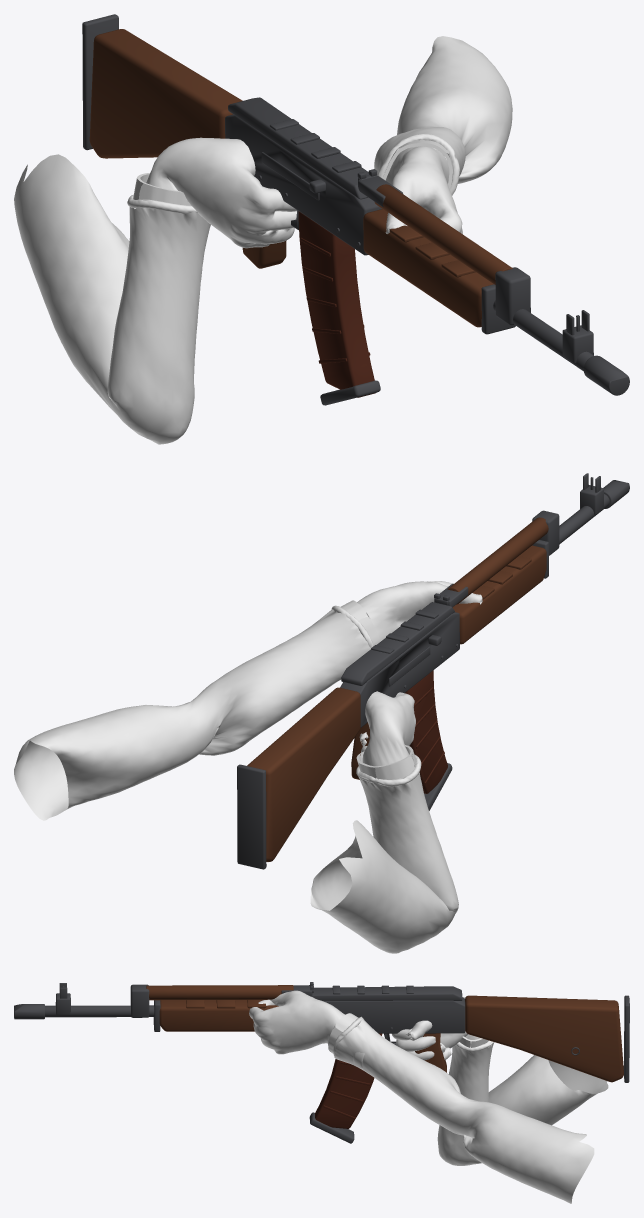
File: FP_kodiak.glb
The picture shows the model from 3 angles, top to bottom: view 1: azimuth 30°, elevation 25°; view 2: azimuth 150°, elevation 25°; view 3: azimuth 270°, elevation 25°; orthographic projection. The views are drawn at different scales.
Visible parts, largest first — view 1: FP_kodiak_Arms, W_kodiak_Mesh.001; view 2: FP_kodiak_Arms, W_kodiak_Mesh.001; view 3: FP_kodiak_Arms, W_kodiak_Mesh.001.
Boxes of the visible parts, <box> form: FP_kodiak_Arms: <box>14,36,512,444</box>; W_kodiak_Mesh.001: <box>82,14,629,405</box>; FP_kodiak_Arms: <box>14,581,482,953</box>; W_kodiak_Mesh.001: <box>237,473,629,869</box>; FP_kodiak_Arms: <box>249,990,608,1203</box>; W_kodiak_Mesh.001: <box>14,982,629,1143</box>.
Bounding box in the file's own units: 0.5504 × 0.3763 × 1.
